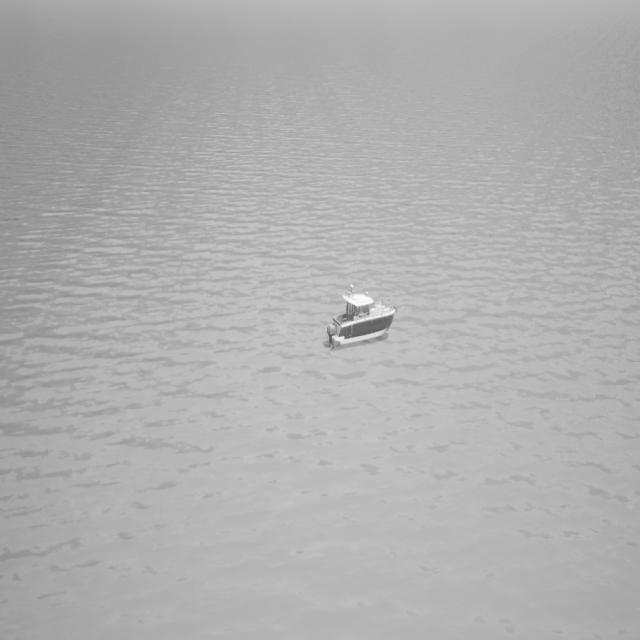ship: (325, 284, 399, 348)
